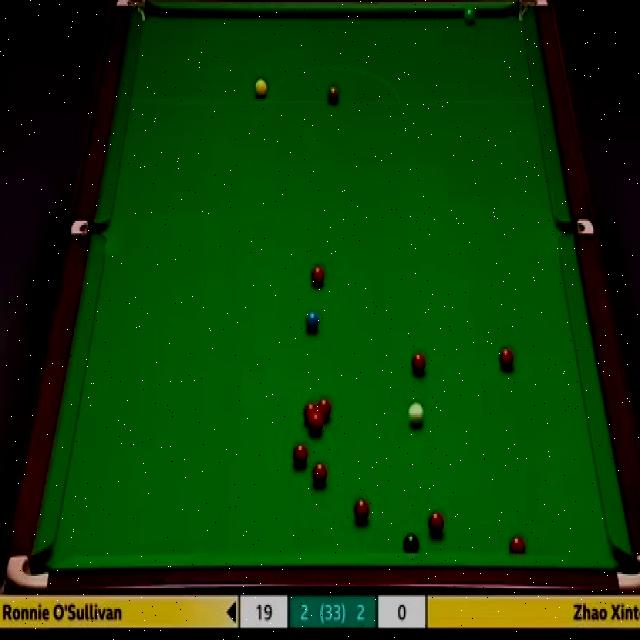black-ball: (403, 531, 420, 554)
blue-ball: (304, 309, 321, 332)
brown-ball: (327, 82, 339, 103)
green-ball: (463, 3, 477, 23)
red-ball: (310, 264, 329, 292), (354, 496, 371, 526), (312, 458, 329, 487), (427, 512, 445, 539), (410, 349, 427, 377), (289, 445, 309, 468), (498, 347, 514, 372), (303, 402, 318, 428), (318, 398, 332, 422), (508, 534, 526, 552), (309, 416, 325, 436)
white-ball: (406, 402, 422, 426)
yellow-ball: (254, 80, 266, 98)
